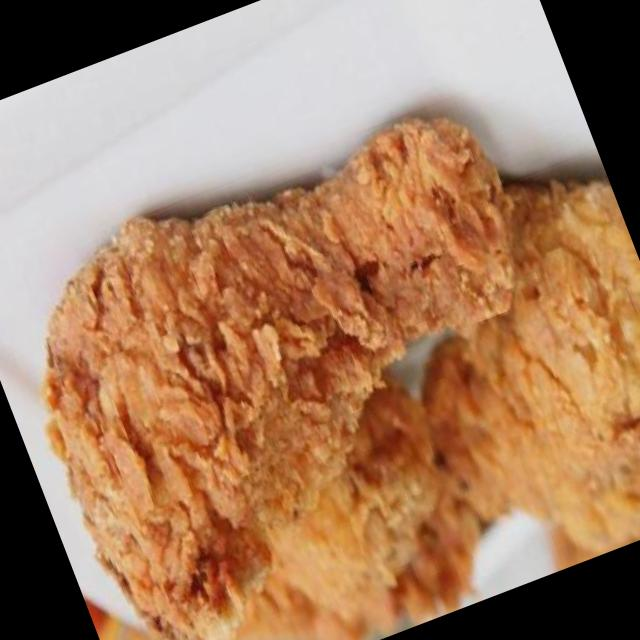Fried Chicken: (39, 113, 640, 640)
